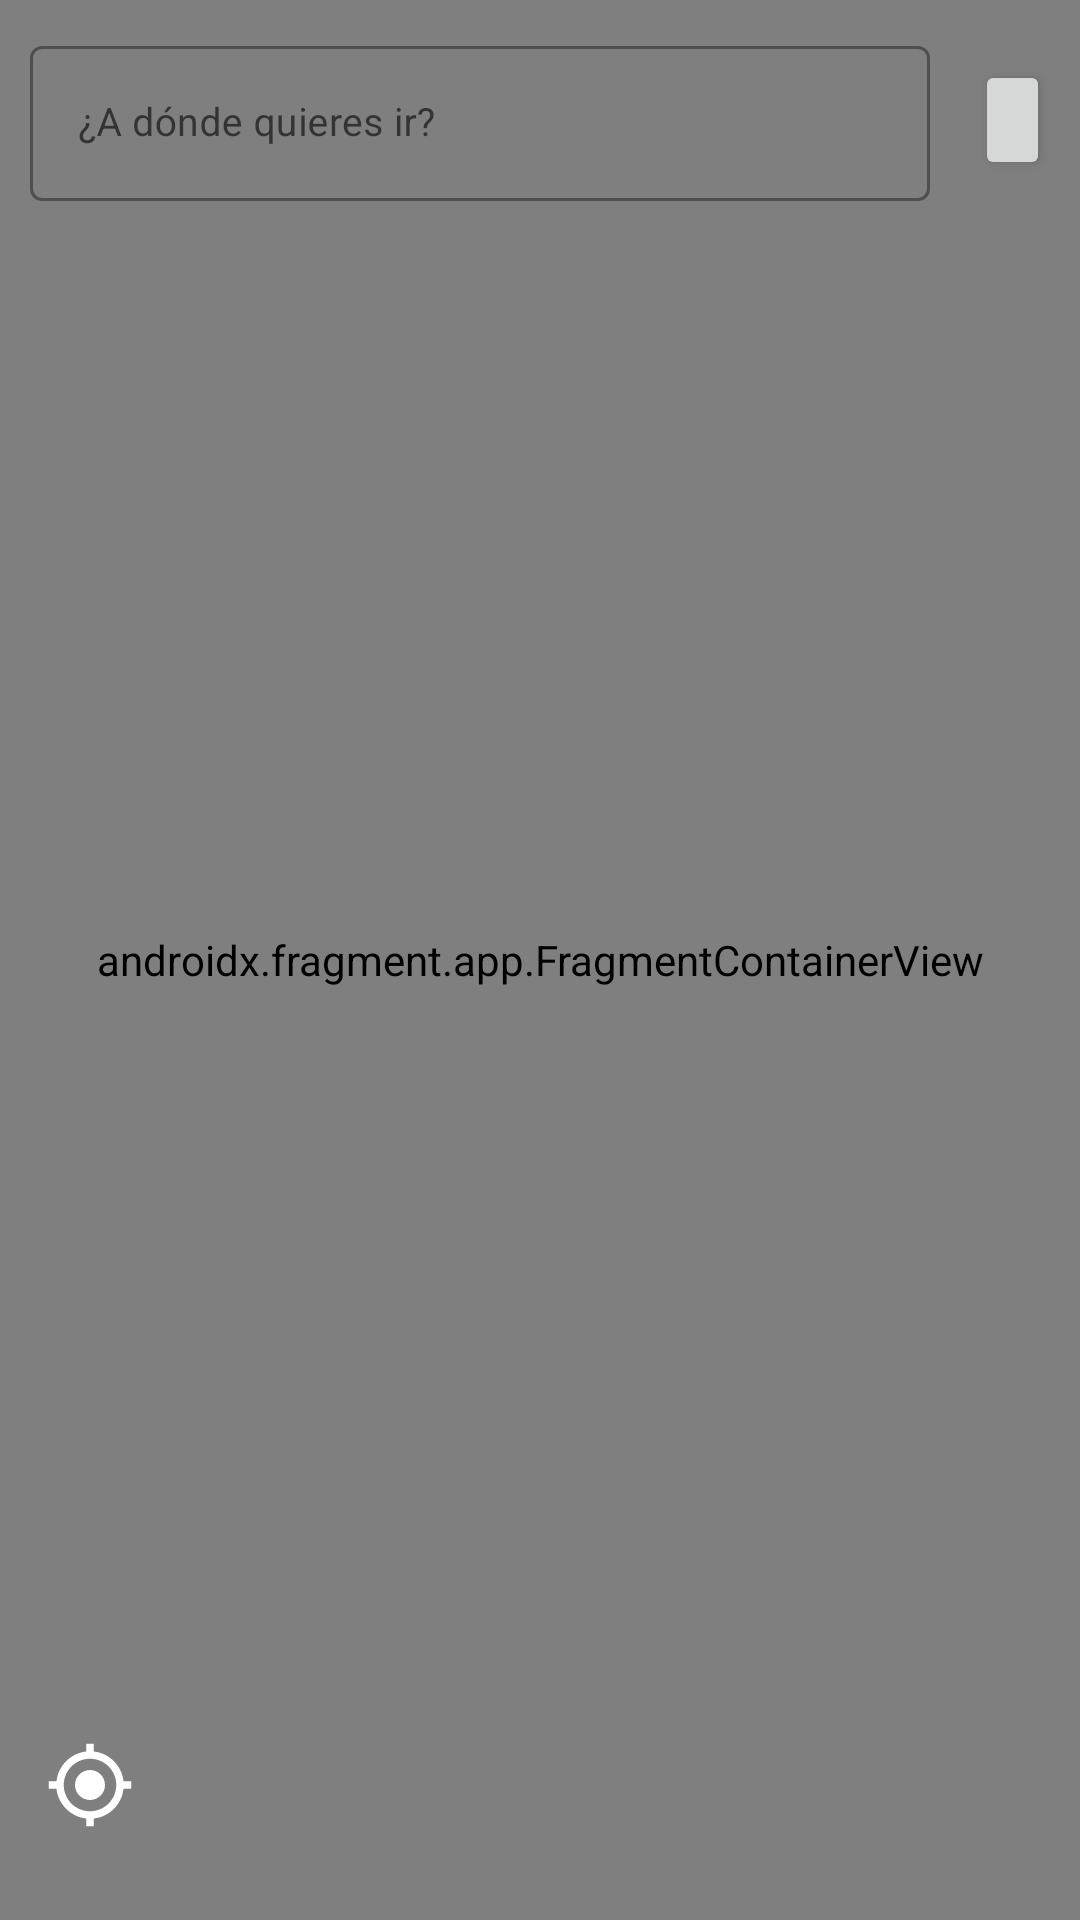

Icons on this 1080 × 1920 Android screen, each with its box as bbox=[x1, y1, x2, y2]:
location: bbox=[48, 1743, 132, 1827]
